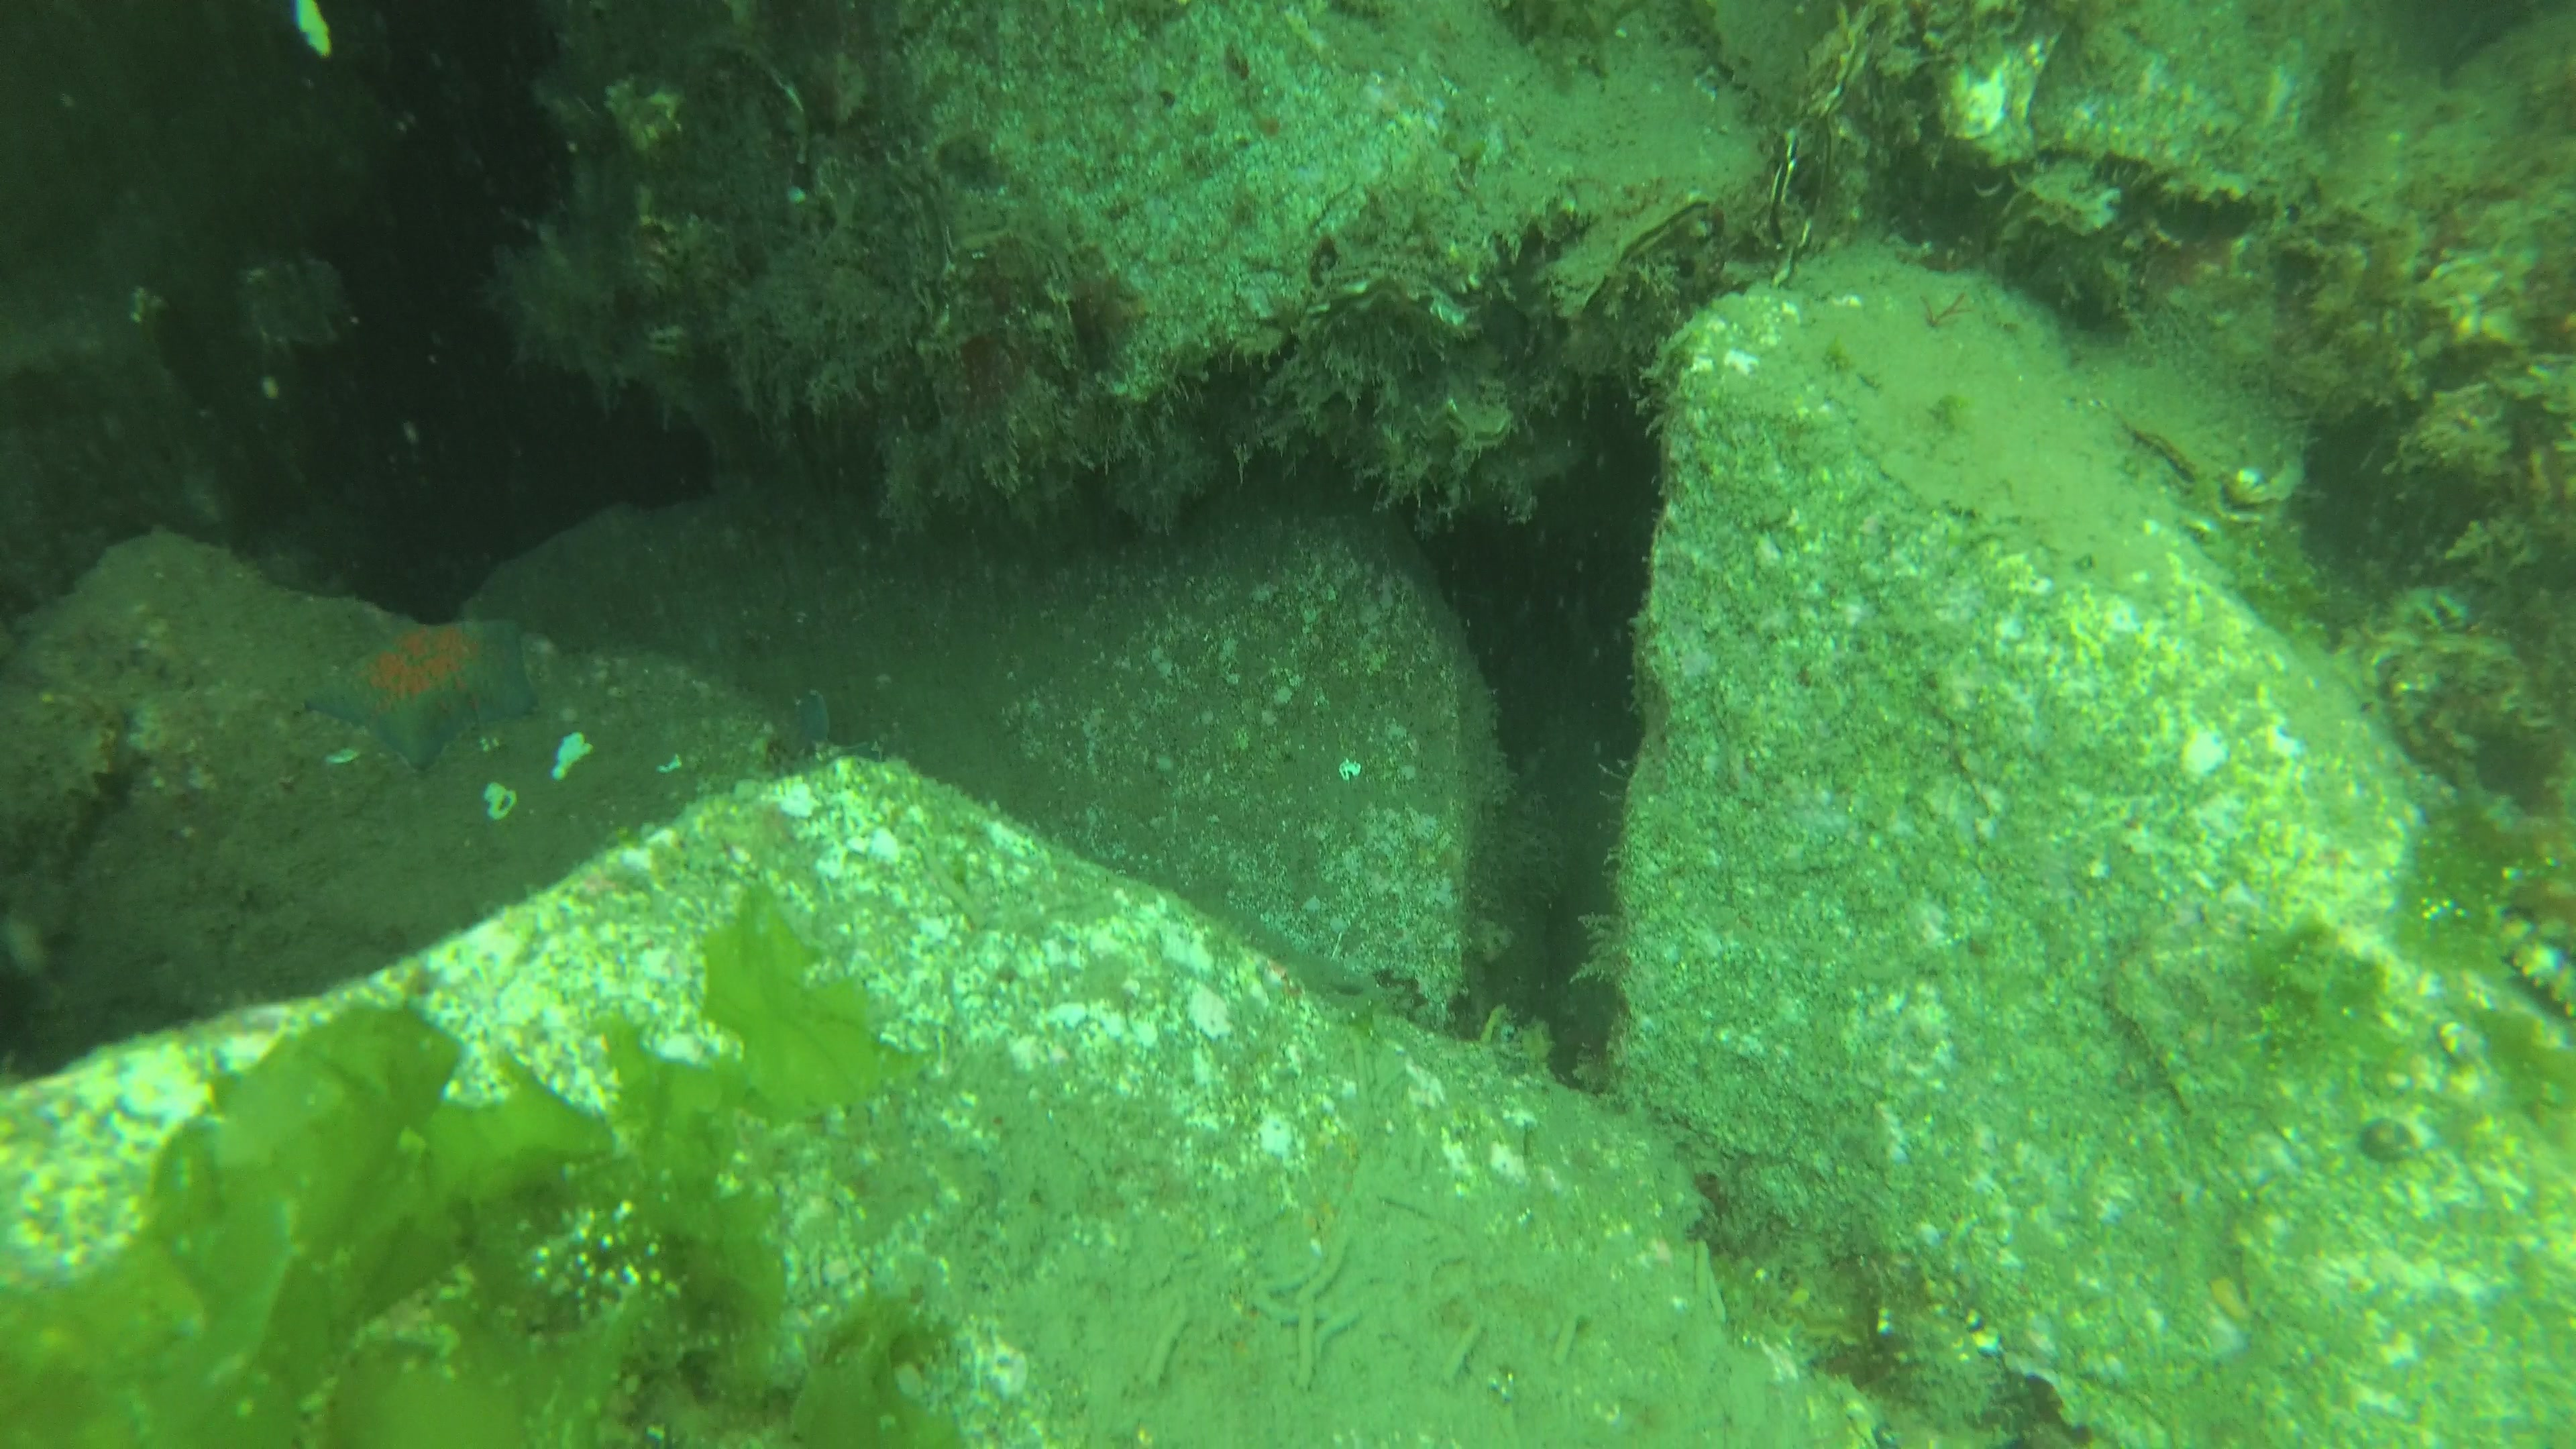starfish: (299, 616, 540, 775)
